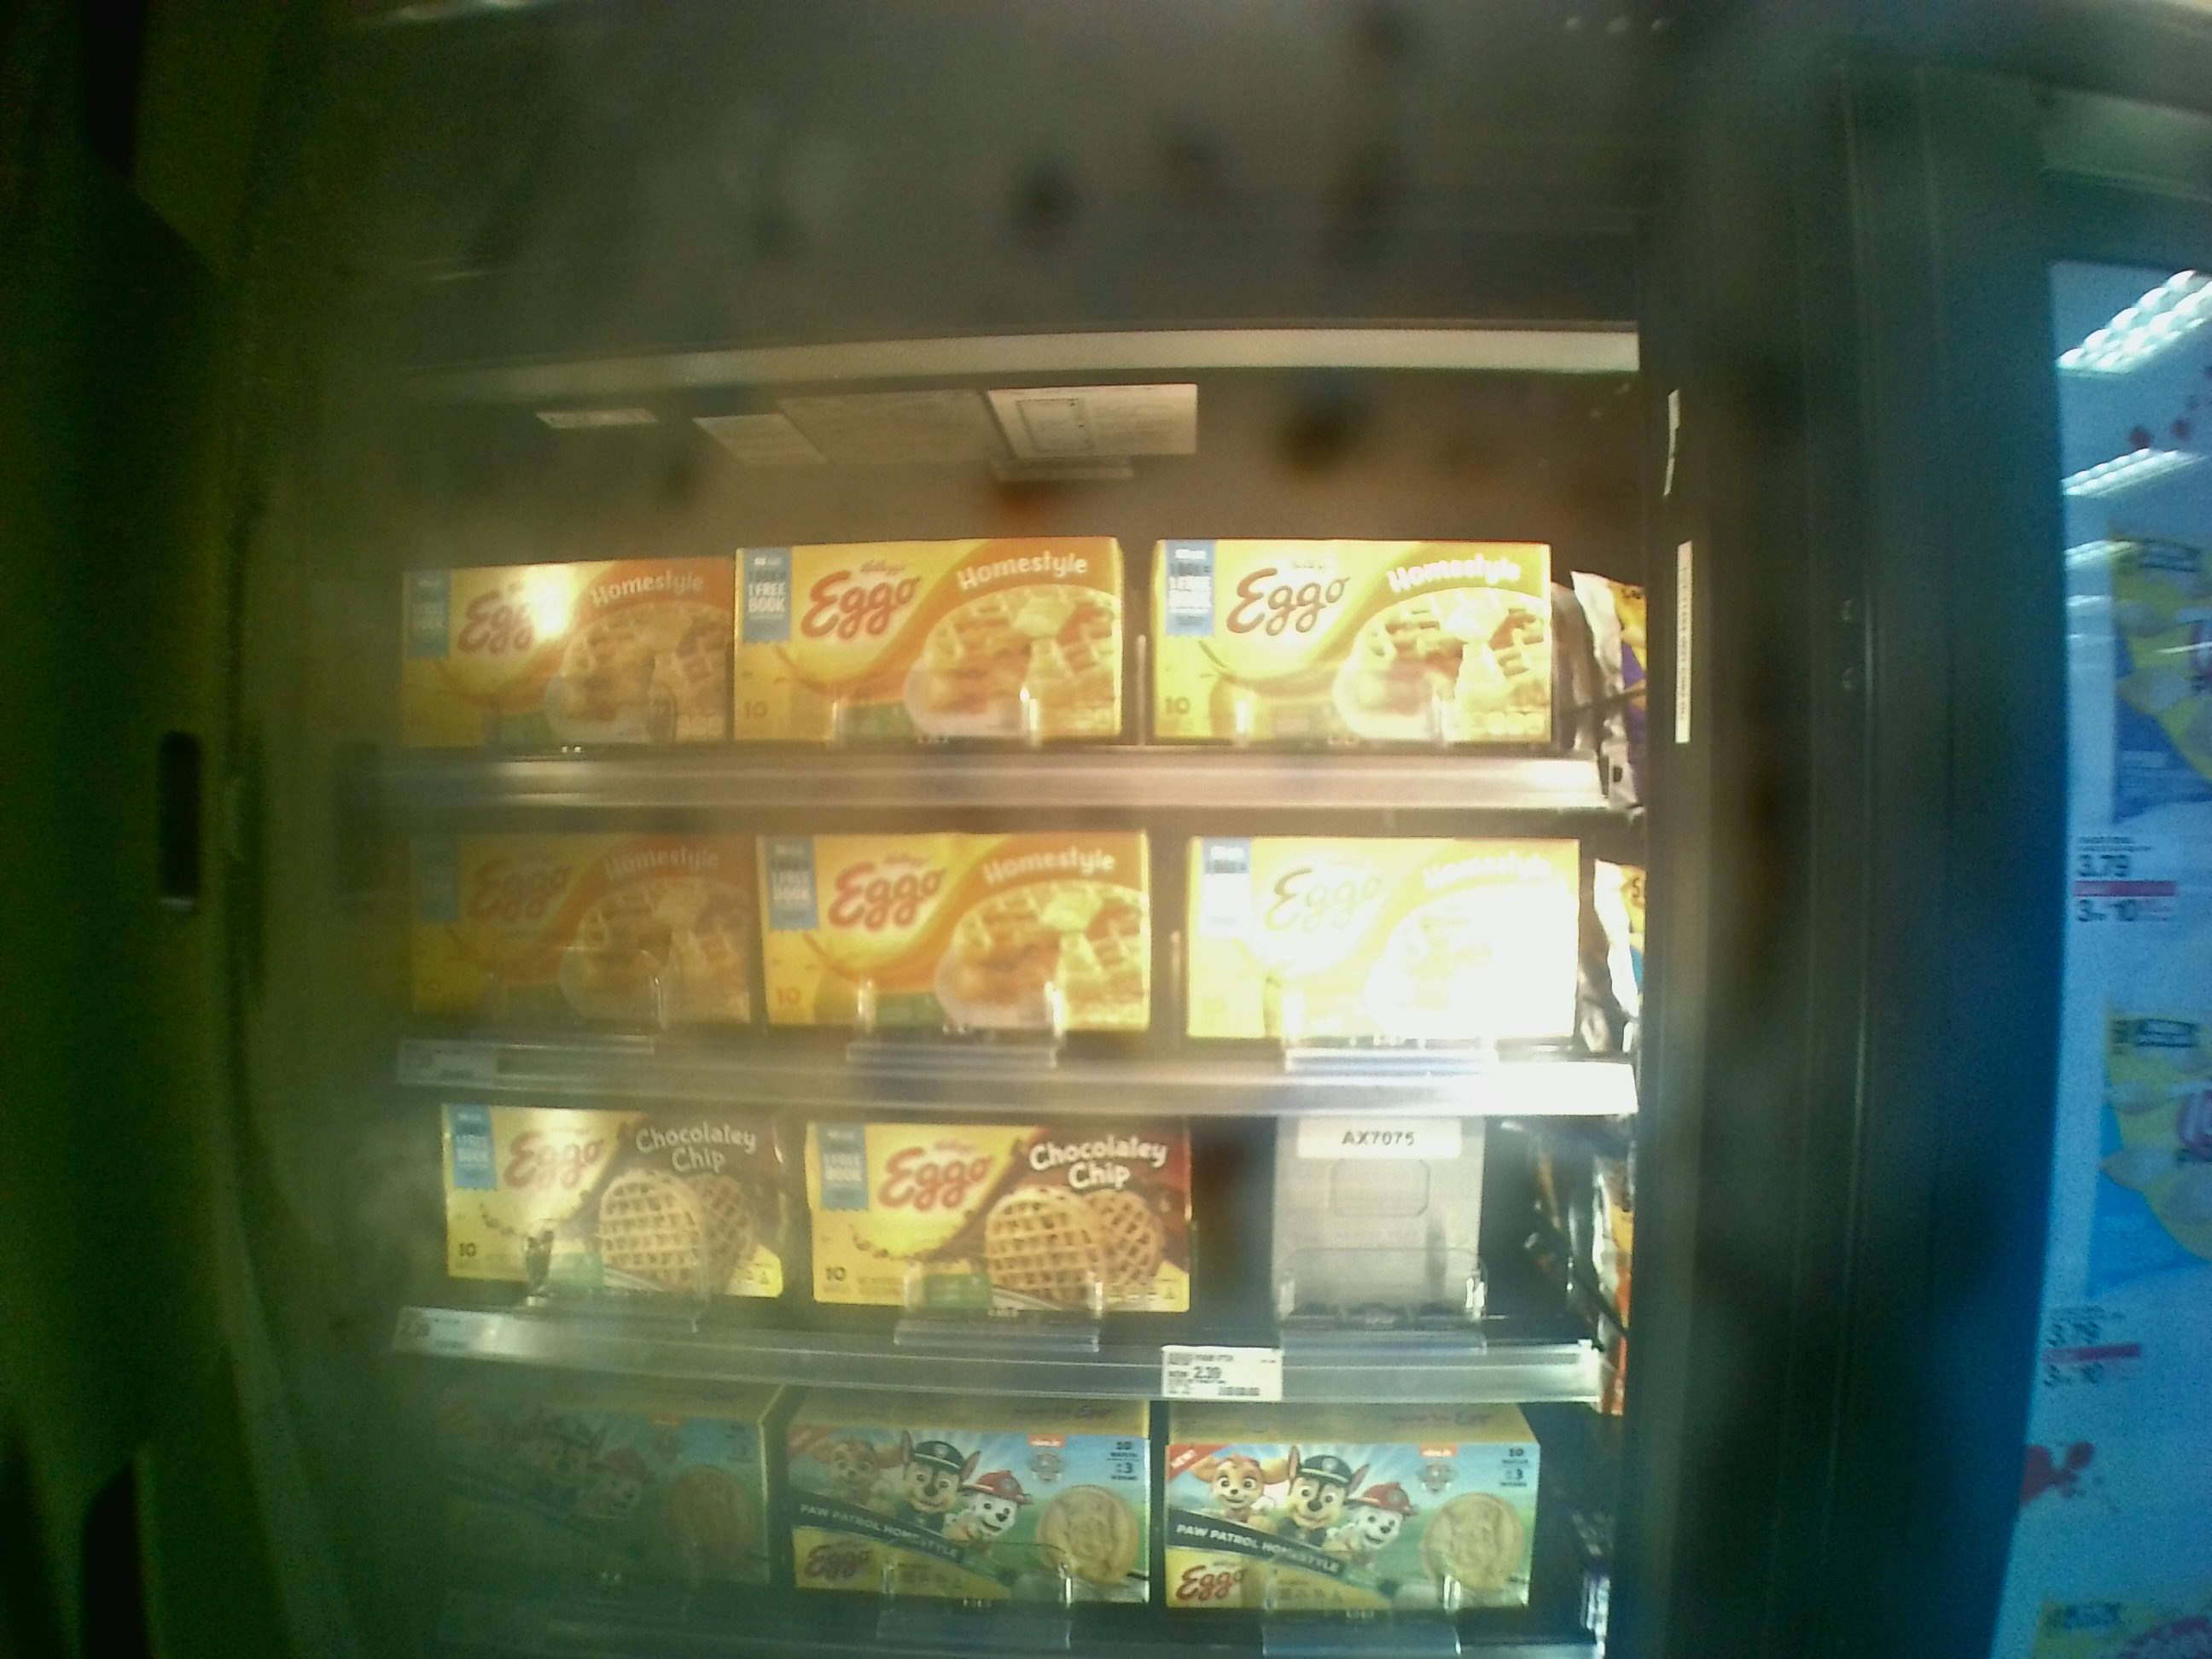shelf: (357, 324, 1625, 819), (350, 802, 1639, 1115), (366, 1098, 1609, 1405)
